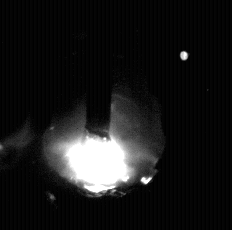arame: (87, 0, 112, 140)
poca: (42, 0, 165, 230)
